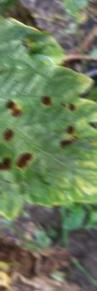Tomato Early blight leaf: (0, 0, 97, 204)
